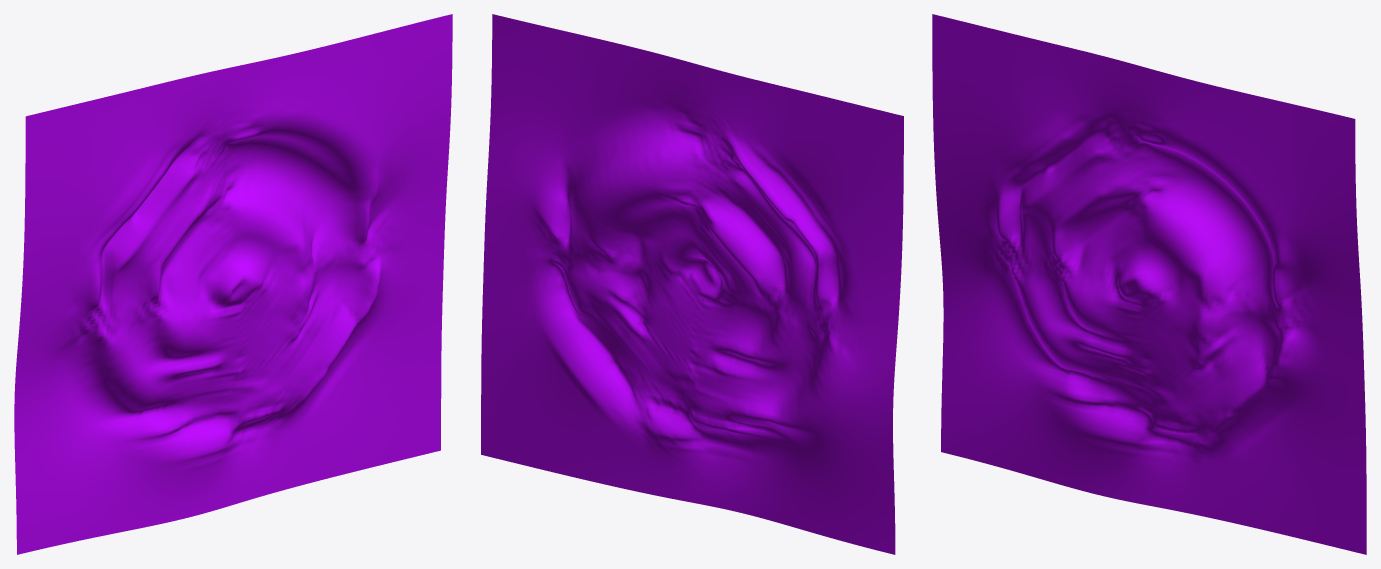
The model's file is droplet_SFL.glb.
3 views of the same model, side by side, from view 1: azimuth 30°, elevation 25°; view 2: azimuth 150°, elevation 25°; view 3: azimuth 330°, elevation 25° (orthographic). The views are drawn at different scales.
Parts seen in each view (by area): view 1: concave_wave_without_shading; view 2: concave_wave_without_shading; view 3: concave_wave_without_shading.
Boxes of the visible parts, box(x1,y1,x2,y2) form: concave_wave_without_shading: box(14, 14, 452, 554); concave_wave_without_shading: box(481, 14, 903, 554); concave_wave_without_shading: box(932, 14, 1366, 554).
Size of the model in its own units: 1.25 by 1.25 by 0.143.
